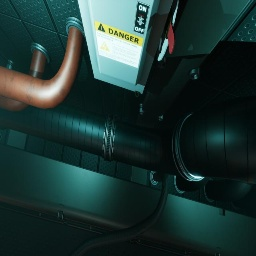SafetySwitchPanel ,: (78, 0, 179, 98)
